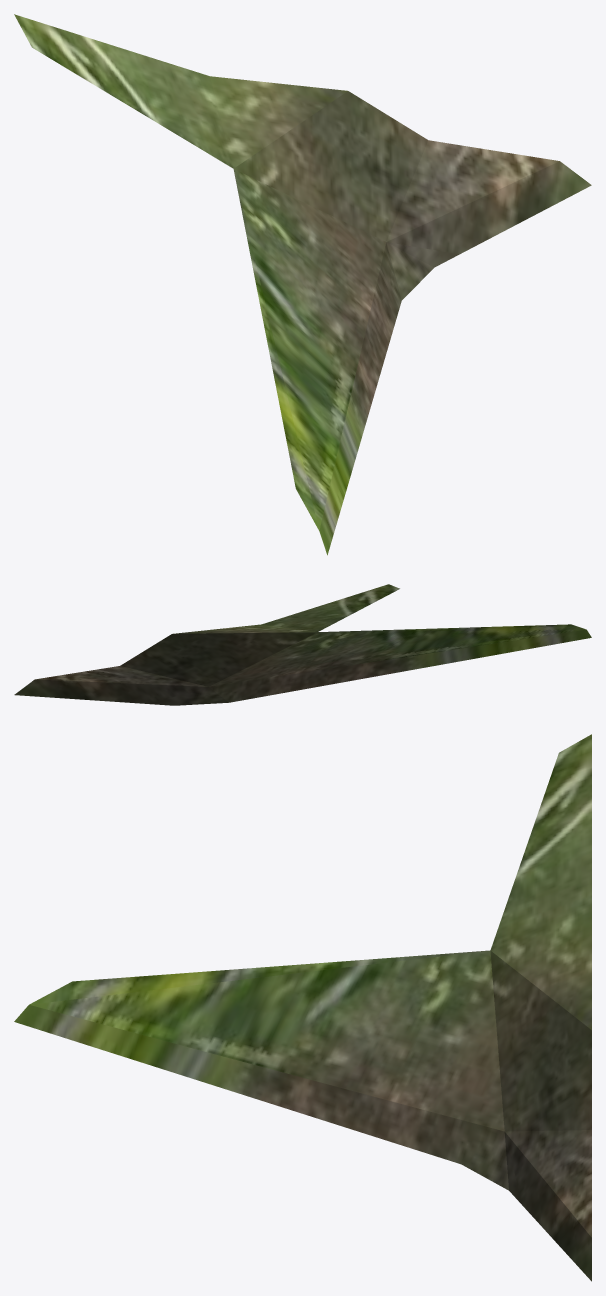
The picture shows the model from 3 angles, top to bottom: view 1: azimuth 30°, elevation 25°; view 2: azimuth 150°, elevation 25°; view 3: azimuth 270°, elevation 25°; orthographic projection. The views are drawn at different scales.
Bounding box in the file's own units: 2.11 × 1.09 × 1.98.
Materials: 1 (1 with a texture image).
